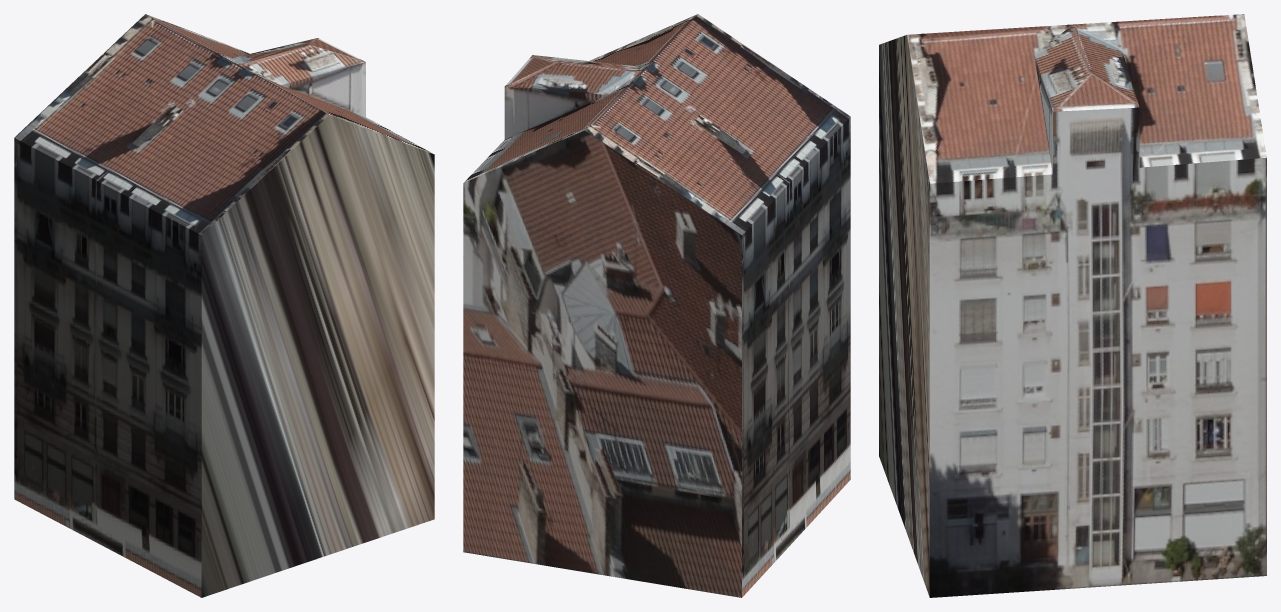
3 renders of one model, left to right at view 1: azimuth 30°, elevation 25°; view 2: azimuth 150°, elevation 25°; view 3: azimuth 270°, elevation 25°, orthographic. The views are drawn at different scales.
Parts seen in each view (by area): view 1: Z_UP; view 2: Z_UP; view 3: Z_UP.
Part boxes in pixels (box(x1,y1,x2,y2)): Z_UP: box(14, 14, 434, 597); Z_UP: box(463, 14, 850, 597); Z_UP: box(879, 14, 1266, 597).
Bounding box in the file's own units: 19.01 × 27.15 × 19.06.
2 materials, 1 textured.
